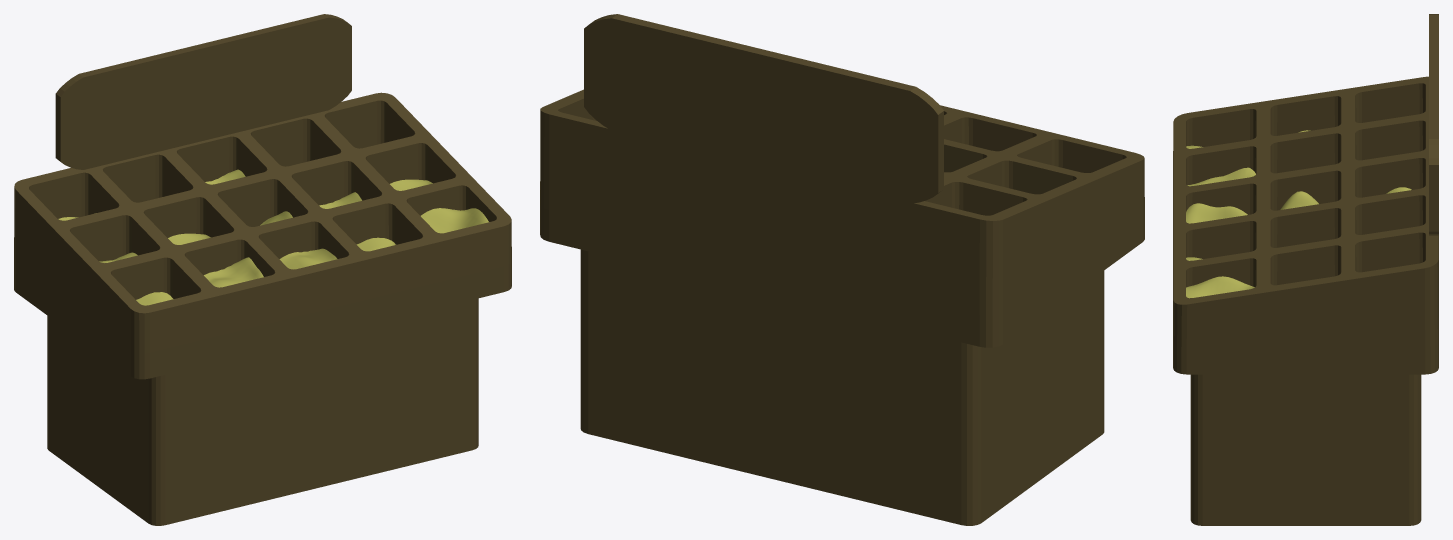
File: timsah_tezgah_3.fbx
The picture shows the model from 3 angles, left to right: view 1: azimuth 30°, elevation 25°; view 2: azimuth 150°, elevation 25°; view 3: azimuth 270°, elevation 25°; orthographic projection. The views are drawn at different scales.
Parts seen in each view (by area): view 1: Plane.022, Plane.023, Cube.019, Plane.021; view 2: Plane.023, Plane.022, Cube.019; view 3: Plane.022, Plane.023, Plane.021, Cube.019.
Boxes of the visible parts, <box> form: Plane.022: <box>14,92,511,379</box>; Plane.023: <box>47,298,478,525</box>; Cube.019: <box>55,14,351,169</box>; Plane.021: <box>58,169,488,305</box>; Plane.023: <box>580,249,1104,525</box>; Plane.022: <box>540,89,1144,347</box>; Cube.019: <box>584,14,943,203</box>; Plane.022: <box>1173,76,1438,374</box>; Plane.023: <box>1190,374,1421,525</box>; Plane.021: <box>1186,130,1411,298</box>; Cube.019: <box>1429,14,1438,235</box>.
Size of the model in its own units: 172 by 154 by 101.
